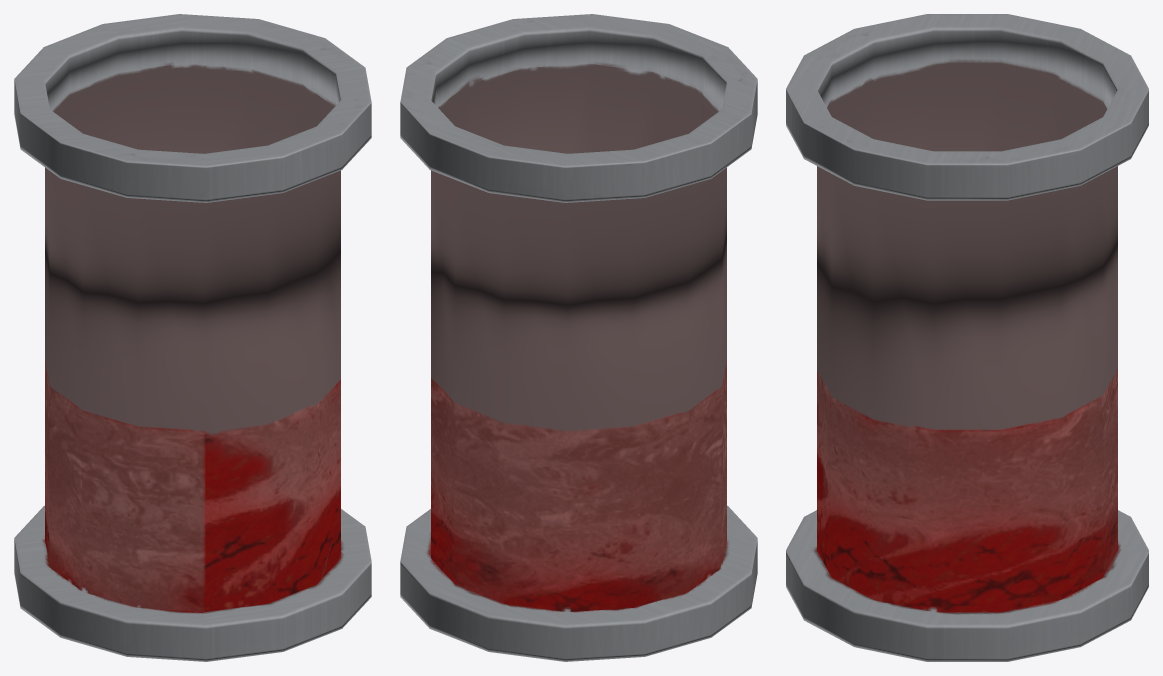
The model's file is Tubo_A.fbx.
3 views of the same model, side by side, from view 1: azimuth 30°, elevation 25°; view 2: azimuth 150°, elevation 25°; view 3: azimuth 270°, elevation 25° (orthographic).
Parts seen in each view (by area): view 1: Cylinder.016; view 2: Cylinder.016; view 3: Cylinder.016.
Part boxes in pixels (x1,y1,x2,y2): Cylinder.016: (14, 14, 371, 661); Cylinder.016: (400, 14, 757, 661); Cylinder.016: (786, 14, 1148, 661).
Bounding box in the file's own units: 477 × 741 × 489.
